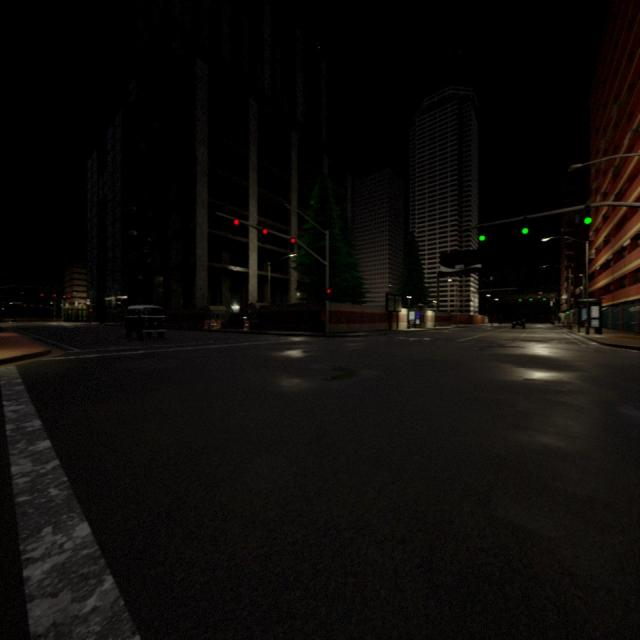Vehicle: (125, 305, 165, 339), (511, 316, 526, 329)
traffic_light: (584, 206, 592, 226), (521, 217, 529, 235), (478, 225, 486, 241), (233, 218, 240, 232), (290, 238, 296, 252), (262, 228, 268, 240), (326, 288, 331, 301), (566, 310, 570, 315), (529, 297, 533, 302), (543, 296, 546, 302), (40, 293, 44, 297), (67, 294, 71, 298), (518, 298, 522, 302), (53, 294, 56, 298), (89, 308, 92, 312)
